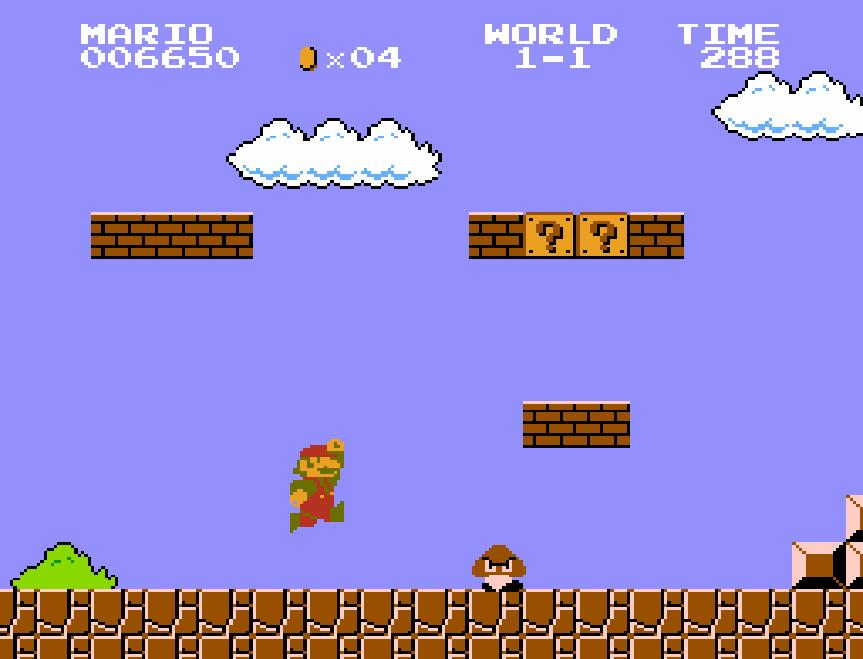big_mario: (288, 437, 346, 535)
